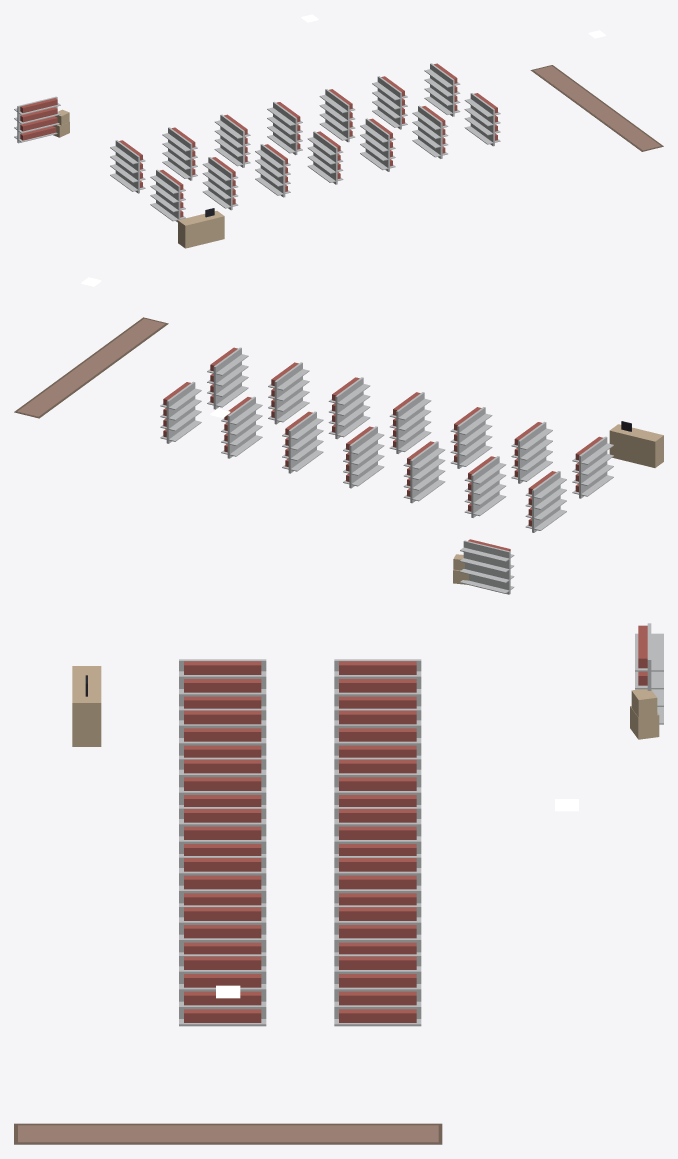
The model's file is fine-s0.glb.
3 renders of one model, top to bottom at view 1: azimuth 30°, elevation 25°; view 2: azimuth 150°, elevation 25°; view 3: azimuth 270°, elevation 25°, orthographic. The views are drawn at different scales.
Visible parts, largest first — view 1: soft-s0, shelving.000, shop-counter.000, shelf.012, shelf.002, shelf.013, shelf.005, shelf.011, shelf.004, shelf.006, shelf.007, shelf.003 (+5 smaller); view 2: soft-s0, shelving.000, shop-counter.000, shelf.001, shelf.012, shelf.003, shelf.000, shelf.013, shelf.008, shelf.002, shelf.005, shelf.007 (+5 smaller); view 3: soft-s0, shelf.012, shelf.013, shelf.000, shelf.001, shelf.002, shelf.003, shelf.004, shelf.005, shelf.008, shelf.009, shelf.010 (+6 smaller).
Boxes of the visible parts, x1,y1,x2,y2 form: soft-s0: (530, 65, 663, 151); shelving.000: (14, 96, 60, 143); shop-counter.000: (178, 208, 224, 248); shelf.012: (424, 63, 460, 116); shelf.002: (162, 127, 197, 180); shelf.013: (464, 93, 500, 146); shelf.005: (255, 144, 290, 197); shelf.011: (412, 105, 448, 158); shelf.004: (214, 114, 250, 167); shelf.006: (267, 101, 302, 155); shelf.007: (307, 131, 343, 184); shelf.003: (202, 157, 238, 210); soft-s0: (14, 317, 168, 418); shelving.000: (460, 539, 514, 594); shop-counter.000: (609, 421, 663, 467); shelf.001: (572, 436, 613, 498); shelf.012: (160, 381, 201, 443); shelf.003: (511, 421, 552, 483); shelf.000: (525, 471, 566, 532); shelf.013: (207, 347, 248, 409); shelf.008: (282, 411, 323, 473); shelf.002: (464, 456, 506, 517); shelf.005: (450, 407, 492, 468); shelf.007: (389, 392, 431, 453); soft-s0: (14, 1123, 442, 1144); shelf.012: (334, 954, 421, 1026); shelf.013: (179, 954, 266, 1026); shelf.000: (334, 659, 421, 708); shelf.001: (179, 659, 266, 708); shelf.002: (334, 708, 421, 757); shelf.003: (179, 708, 266, 757); shelf.004: (334, 757, 421, 806); shelf.005: (179, 757, 266, 806); shelf.008: (334, 856, 421, 905); shelf.009: (179, 856, 266, 905); shelf.010: (334, 905, 421, 954).
Bounding box in the file's own units: 22.01 × 3.27 × 13.4.
